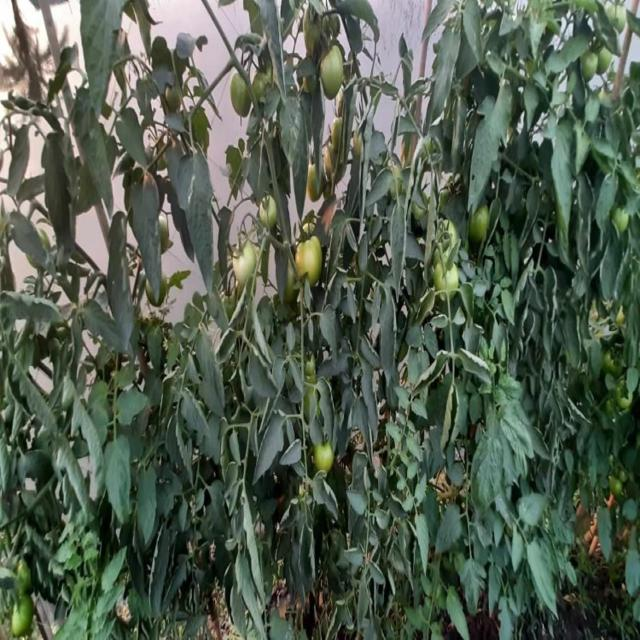tomato: (318, 46, 353, 100), (11, 593, 40, 638), (232, 248, 262, 285), (294, 239, 325, 273), (434, 260, 465, 294), (227, 70, 250, 114), (300, 164, 321, 204), (471, 209, 495, 241), (260, 195, 280, 232), (320, 448, 343, 474), (615, 206, 634, 236), (9, 558, 29, 586), (163, 90, 182, 117), (439, 221, 460, 245), (580, 54, 601, 77), (618, 380, 632, 405), (603, 350, 613, 374), (601, 53, 611, 70)
